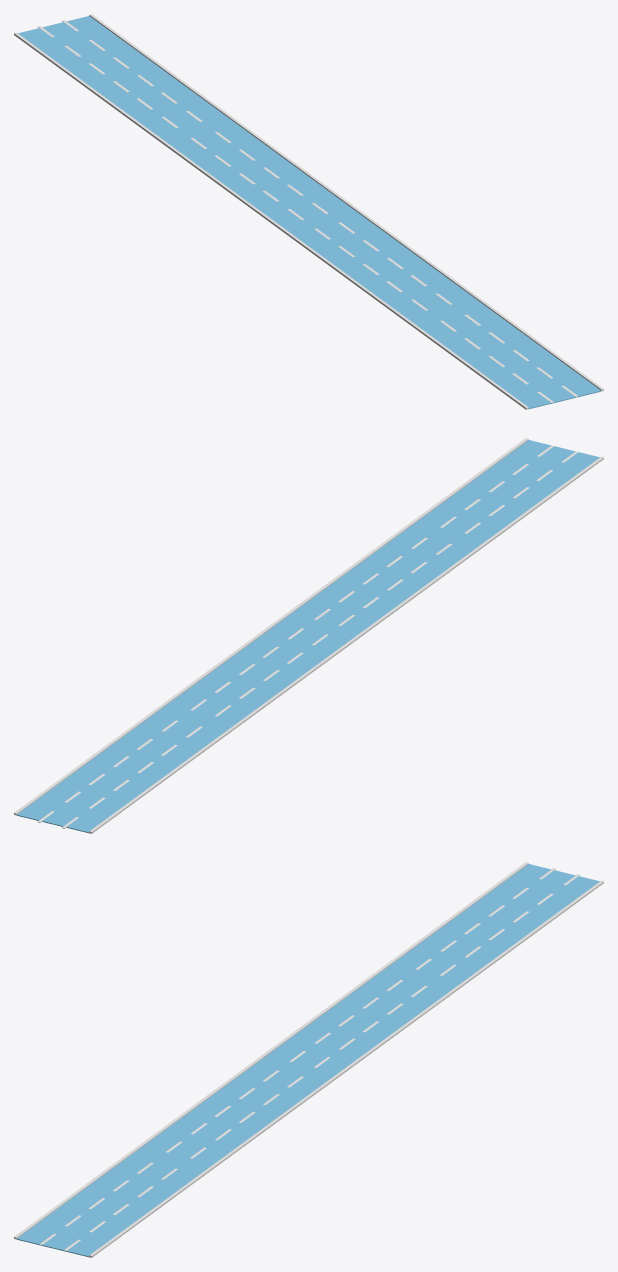
Rendered from road_geo.fbx.
The picture shows the model from 3 angles, top to bottom: view 1: azimuth 30°, elevation 25°; view 2: azimuth 150°, elevation 25°; view 3: azimuth 330°, elevation 25°; orthographic projection.
Visible parts, largest first — view 1: road; view 2: road; view 3: road.
Part boxes in pixels (x1=…): road: x1=14, y1=14, x2=603, y2=409; road: x1=14, y1=438, x2=603, y2=833; road: x1=14, y1=862, x2=603, y2=1257.
Bounding box in the file's own units: 20.68 × 0.5491 × 236.
